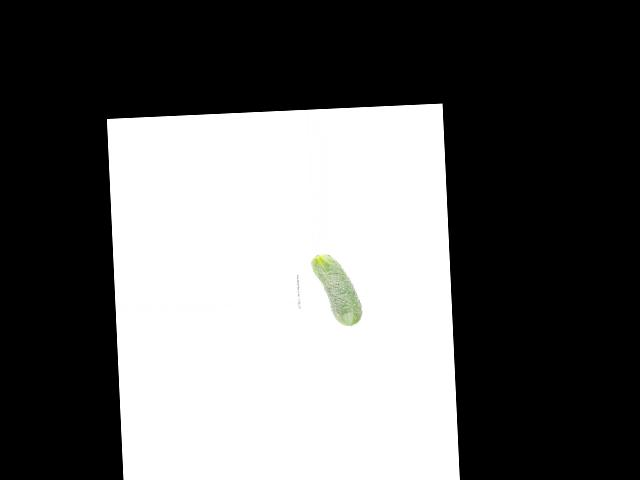cucumber: (310, 252, 362, 328)
